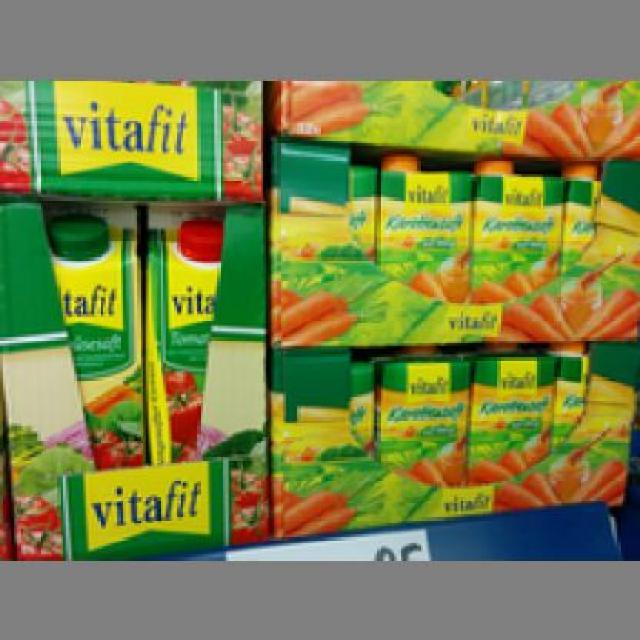Juice: (43, 196, 148, 469), (143, 203, 226, 460), (468, 148, 564, 302), (374, 148, 469, 301), (371, 346, 466, 483), (466, 338, 552, 482)
